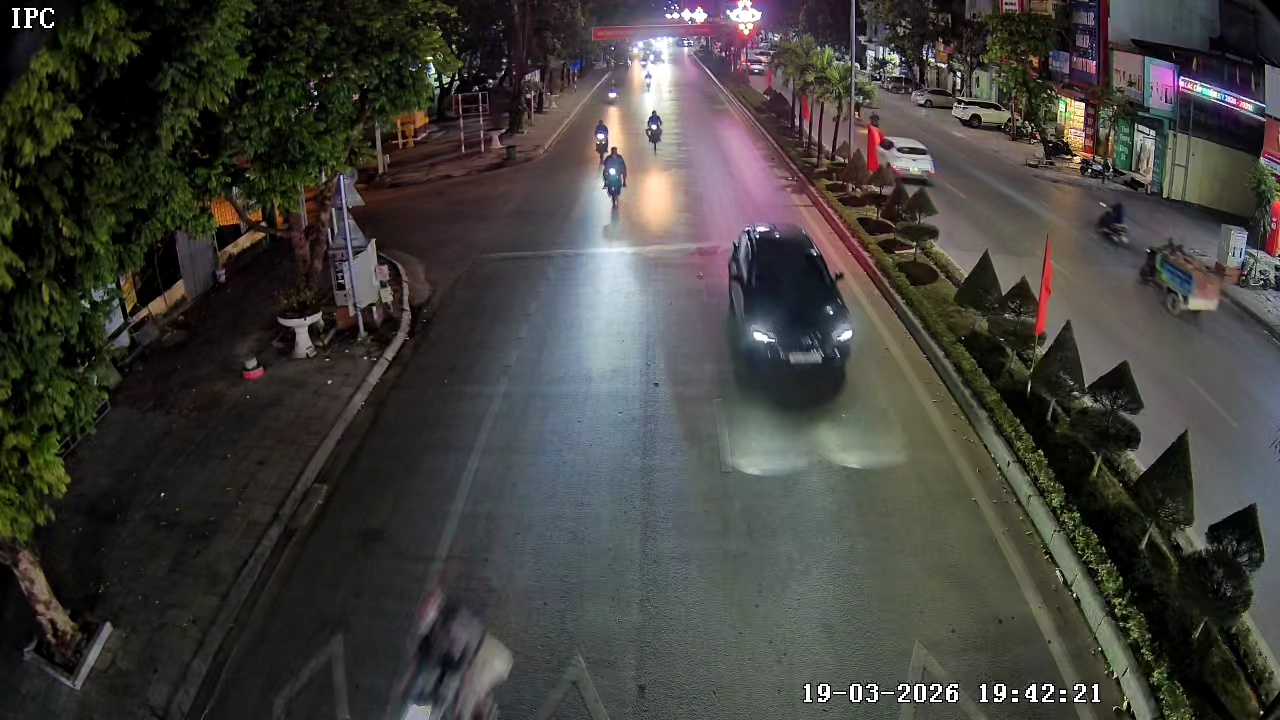car: (724, 223, 853, 392)
motorbike: (599, 144, 633, 218), (644, 108, 669, 158), (587, 116, 612, 163)
truck: (1138, 235, 1221, 318)
